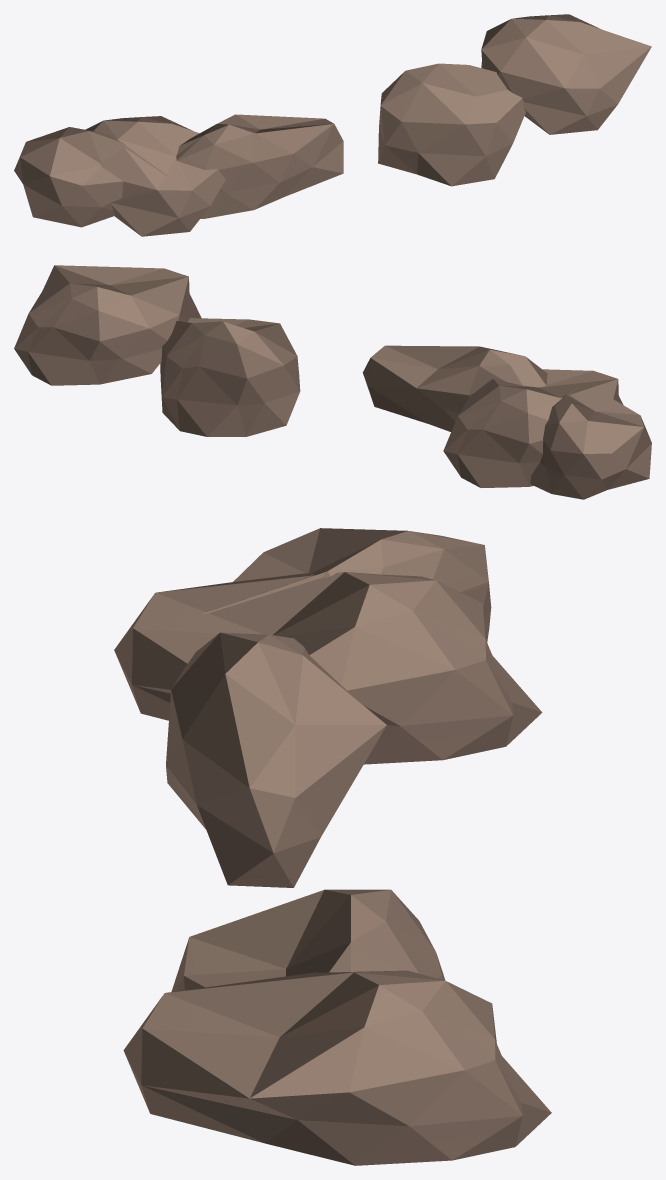
Rendered from shitou5.fbx.
3 renders of one model, top to bottom at view 1: azimuth 30°, elevation 25°; view 2: azimuth 150°, elevation 25°; view 3: azimuth 270°, elevation 25°, orthographic. The views are drawn at different scales.
Parts seen in each view (by area): view 1: shitou5; view 2: shitou5; view 3: shitou5.
Boxes of the visible parts, bbox=[...] form: shitou5: bbox=[14, 14, 651, 236]; shitou5: bbox=[14, 265, 651, 499]; shitou5: bbox=[114, 528, 551, 1165].
Bounding box in the file's own units: 35.67 × 11.36 × 5.87.
